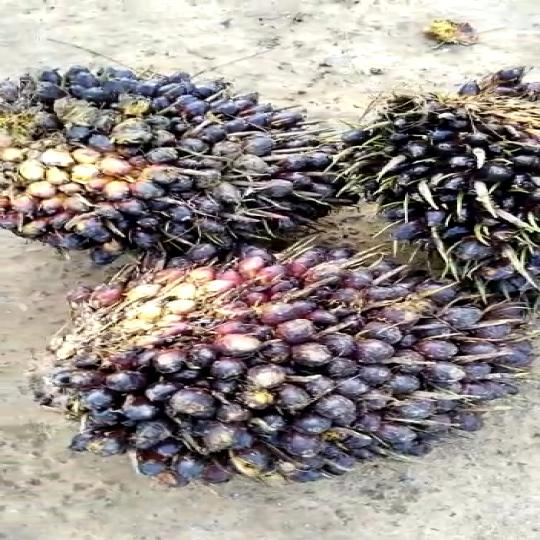mentah: (56, 254, 518, 492), (1, 56, 385, 257), (336, 59, 540, 332)
